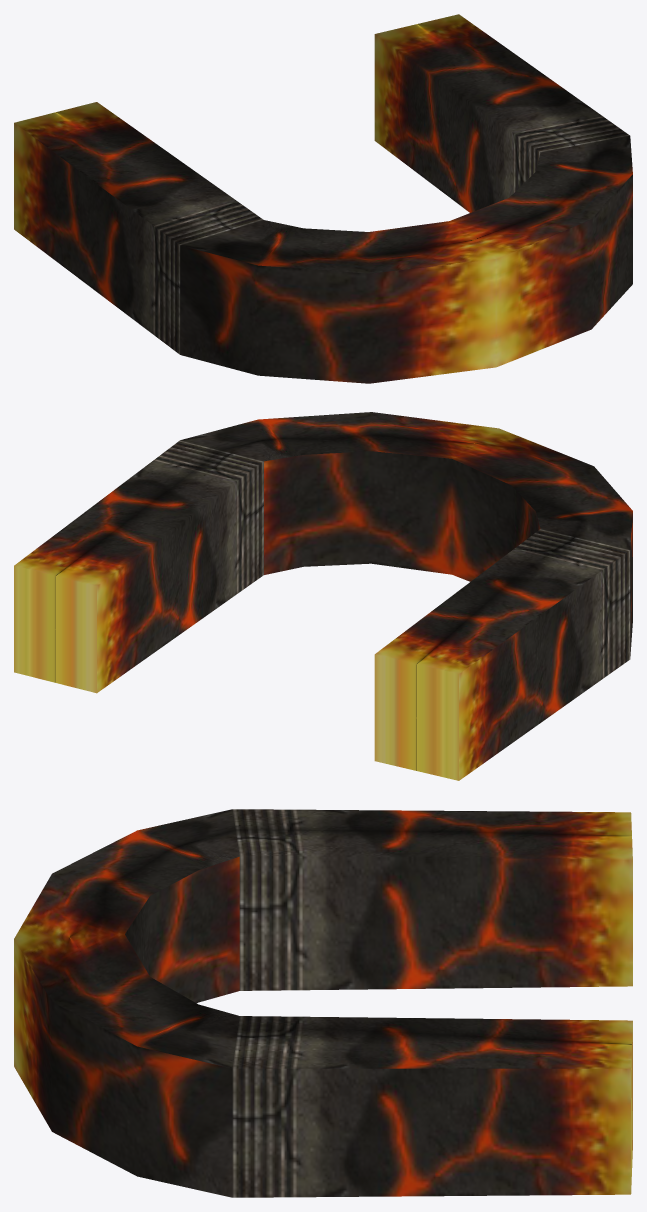
File: gate_07.obj
3 renders of one model, top to bottom at view 1: azimuth 30°, elevation 25°; view 2: azimuth 150°, elevation 25°; view 3: azimuth 270°, elevation 25°, orthographic. The views are drawn at different scales.
Parts seen in each view (by area): view 1: (null); view 2: (null); view 3: (null).
Part boxes in pixels (left/top/right/bottom): (null): left=14, top=14, right=632, bottom=383; (null): left=14, top=412, right=632, bottom=780; (null): left=14, top=809, right=632, bottom=1197.
Bounding box in the file's own units: 3.86 × 0.9498 × 3.89.
